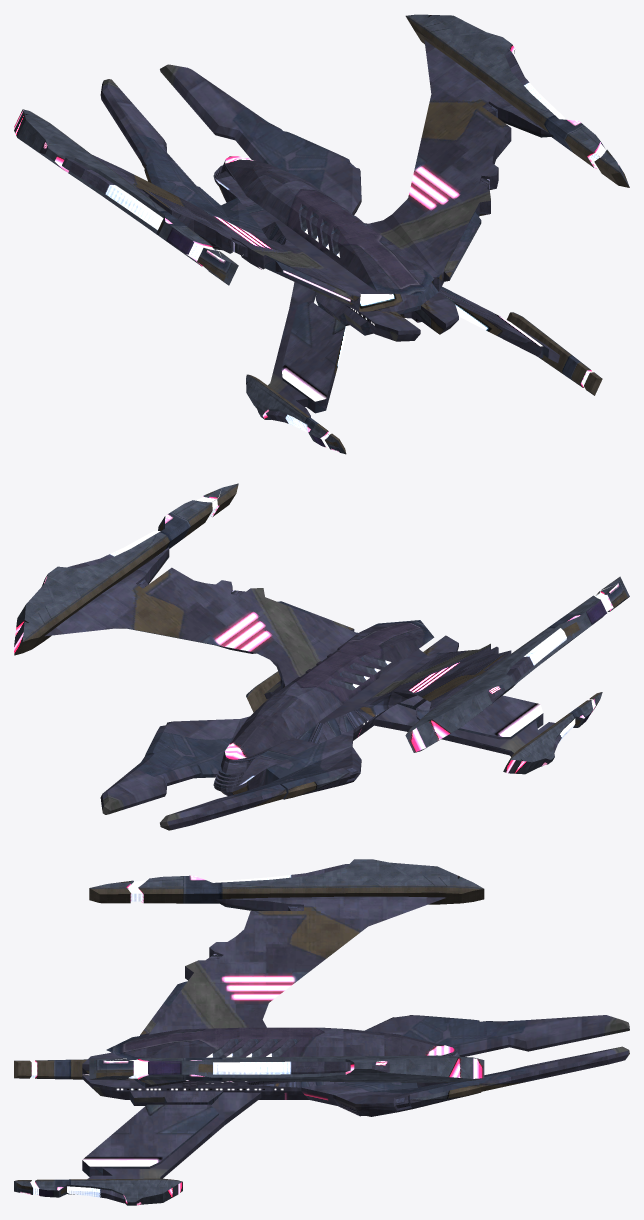
The model's file is Dom_Harbinger.fbx.
3 renders of one model, top to bottom at view 1: azimuth 30°, elevation 25°; view 2: azimuth 150°, elevation 25°; view 3: azimuth 270°, elevation 25°, orthographic. The views are drawn at different scales.
Visible parts, largest first — view 1: Dom_Harbinger; view 2: Dom_Harbinger; view 3: Dom_Harbinger.
Boxes of the visible parts, bbox=[...] form: Dom_Harbinger: bbox=[14, 14, 629, 454]; Dom_Harbinger: bbox=[14, 483, 629, 830]; Dom_Harbinger: bbox=[14, 859, 629, 1205].
Bounding box in the file's own units: 537 × 220 × 679.
1 material, 1 textured.
